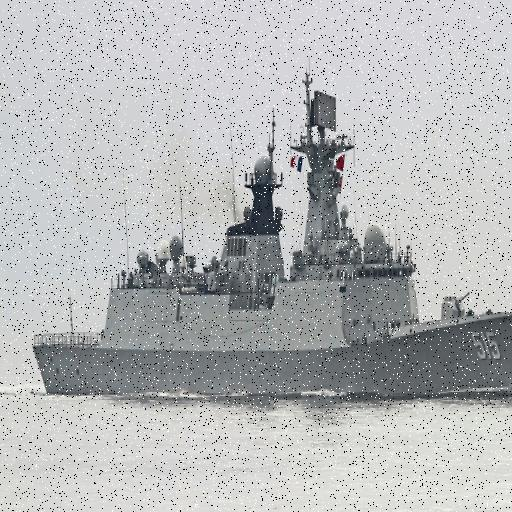Fragata: (27, 46, 512, 408)
